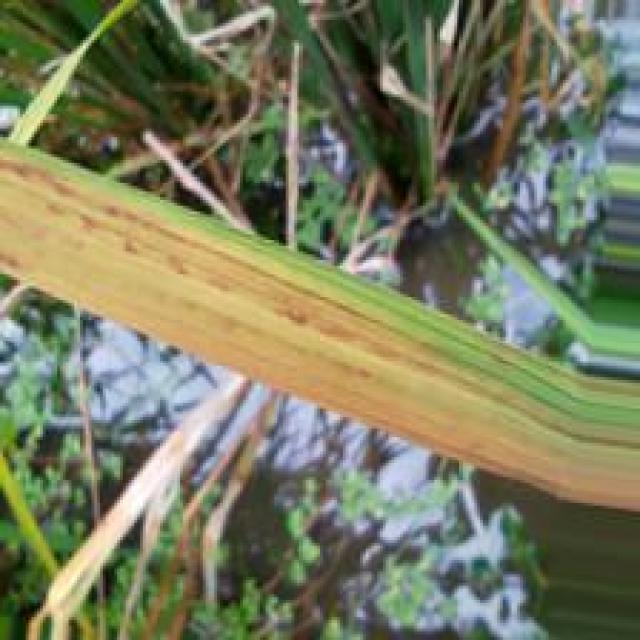Narrow_Brown_Leaf_Spot: (0, 156, 640, 517)
